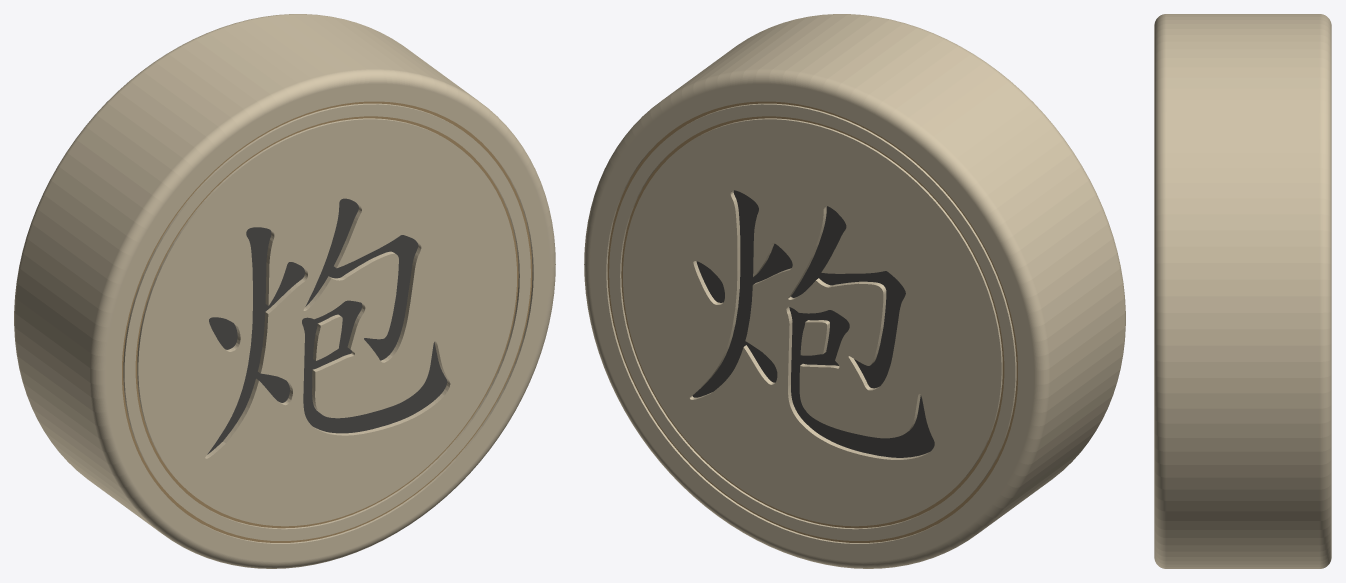
The picture shows the model from 3 angles, left to right: view 1: azimuth 30°, elevation 25°; view 2: azimuth 150°, elevation 25°; view 3: azimuth 270°, elevation 25°; orthographic projection. The views are drawn at different scales.
Visible parts, largest first — view 1: wood, engraved_letters, engraved_border; view 2: wood, engraved_letters, engraved_border; view 3: wood.
Boxes of the visible parts, x1,y1,x2,y2 form: wood: (14, 14, 555, 568); engraved_letters: (207, 198, 447, 454); engraved_border: (122, 101, 532, 542); wood: (584, 14, 1125, 568); engraved_letters: (692, 190, 934, 457); engraved_border: (607, 101, 1017, 542); wood: (1154, 14, 1331, 568).
Size of the model in its own units: 0.047 by 0.047 by 0.015.
